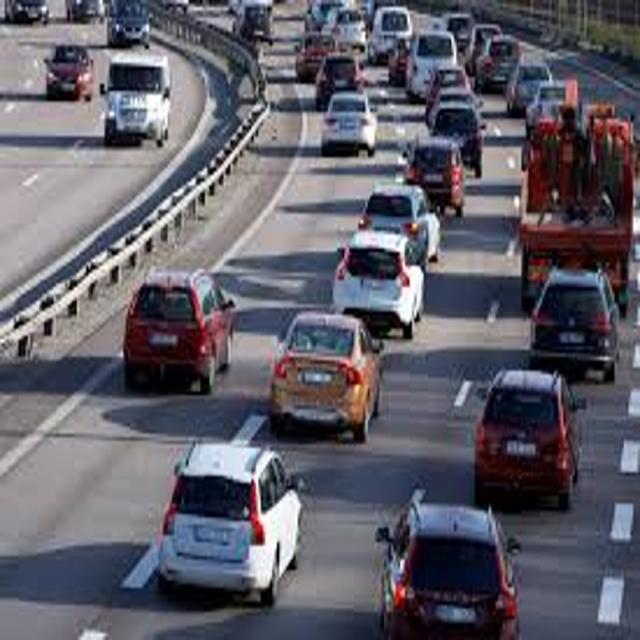car: (160, 443, 307, 605), (375, 501, 521, 640), (474, 370, 583, 511), (269, 313, 384, 438), (122, 273, 233, 392), (528, 264, 620, 380), (335, 232, 425, 337), (100, 55, 171, 144), (360, 187, 440, 260), (403, 138, 464, 218), (321, 93, 377, 150), (43, 44, 92, 99)
